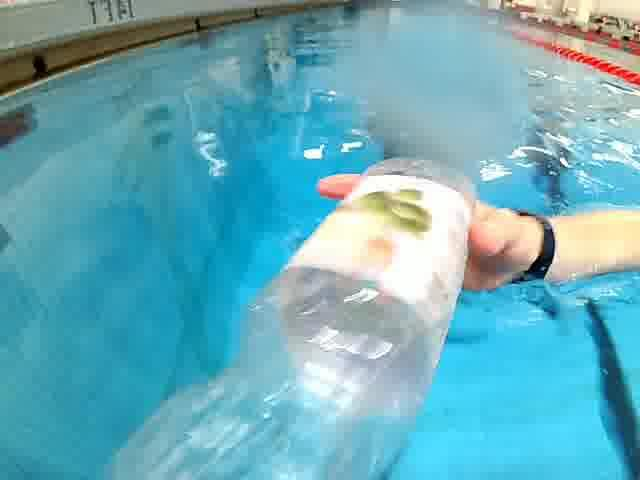Bottle: (86, 149, 481, 480)
